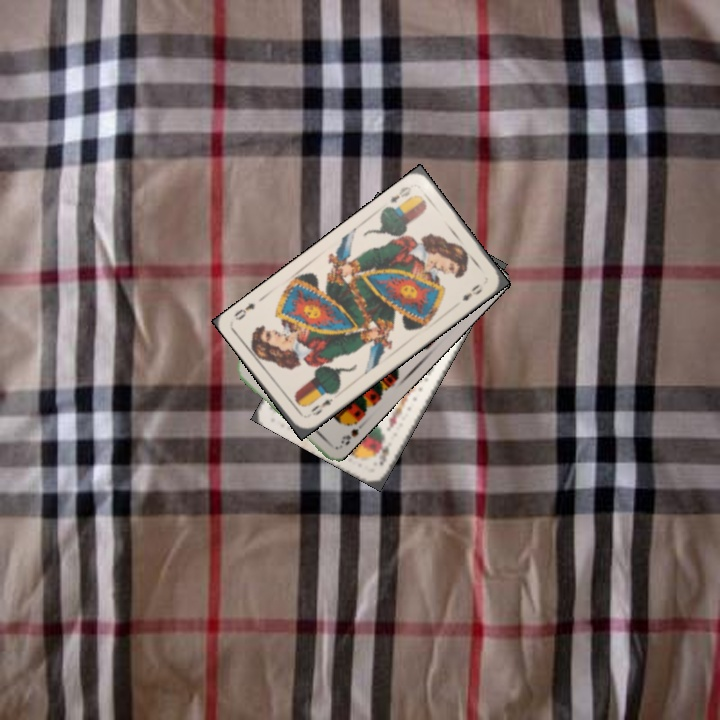EO: (307, 394, 336, 418), (386, 182, 414, 206)
S9: (336, 414, 363, 448)
SK: (372, 442, 392, 468)
